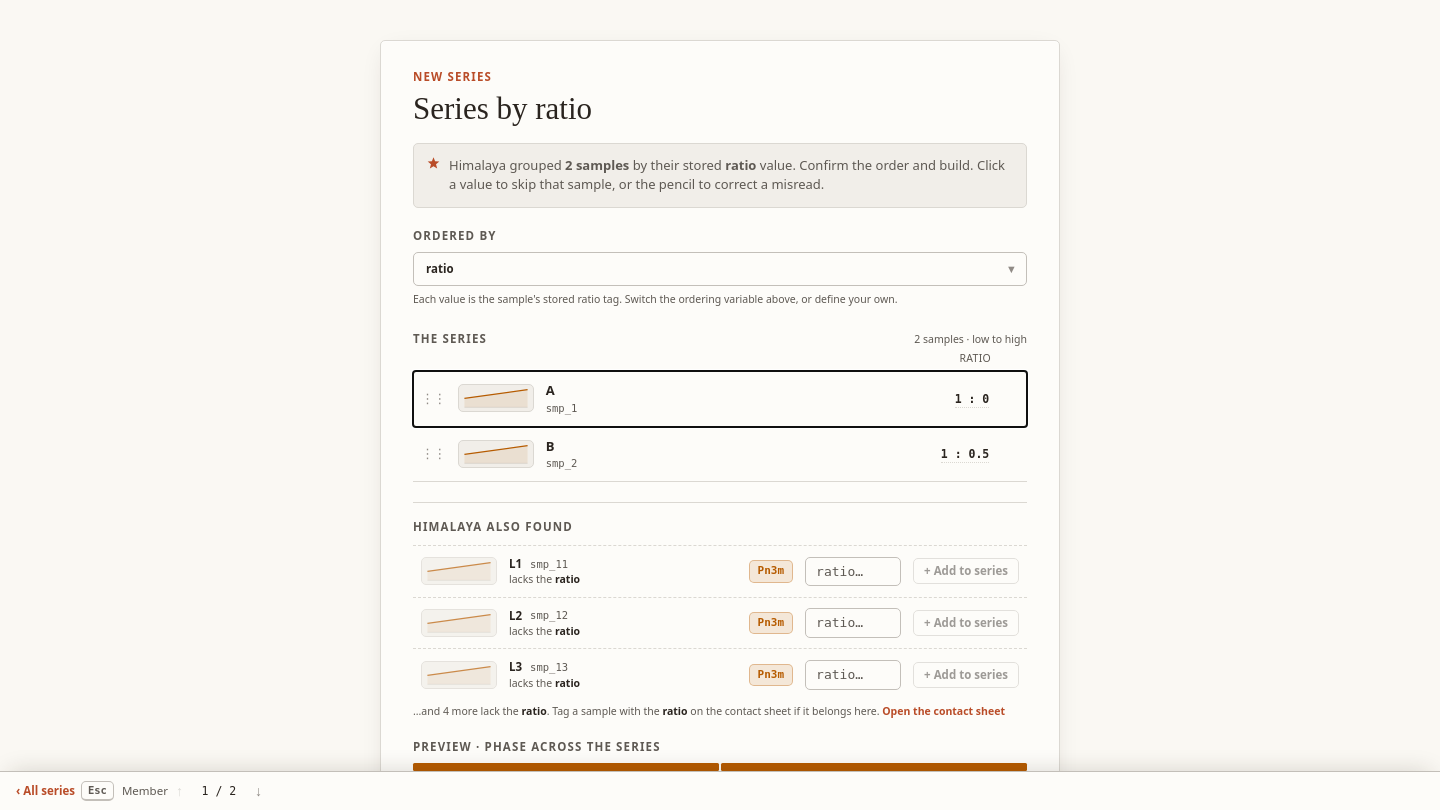
SeriesScopingPage › loose candidates are actionable (SCOPE-LOOSEADD) › naming a value enables Add; adding moves the candidate into the members
Expected: the number of elements with test id "scope-sample-row" is 2, [413,371,1027,427]; [413,427,1027,482]
Expected: the button "+ Add to series" in the row of "11" is disabled, [913,558,1019,584]
Type "2 : 1" into the field named "value for L1".
click(853, 571); type("2 : 1")  # box [816,562,890,581]
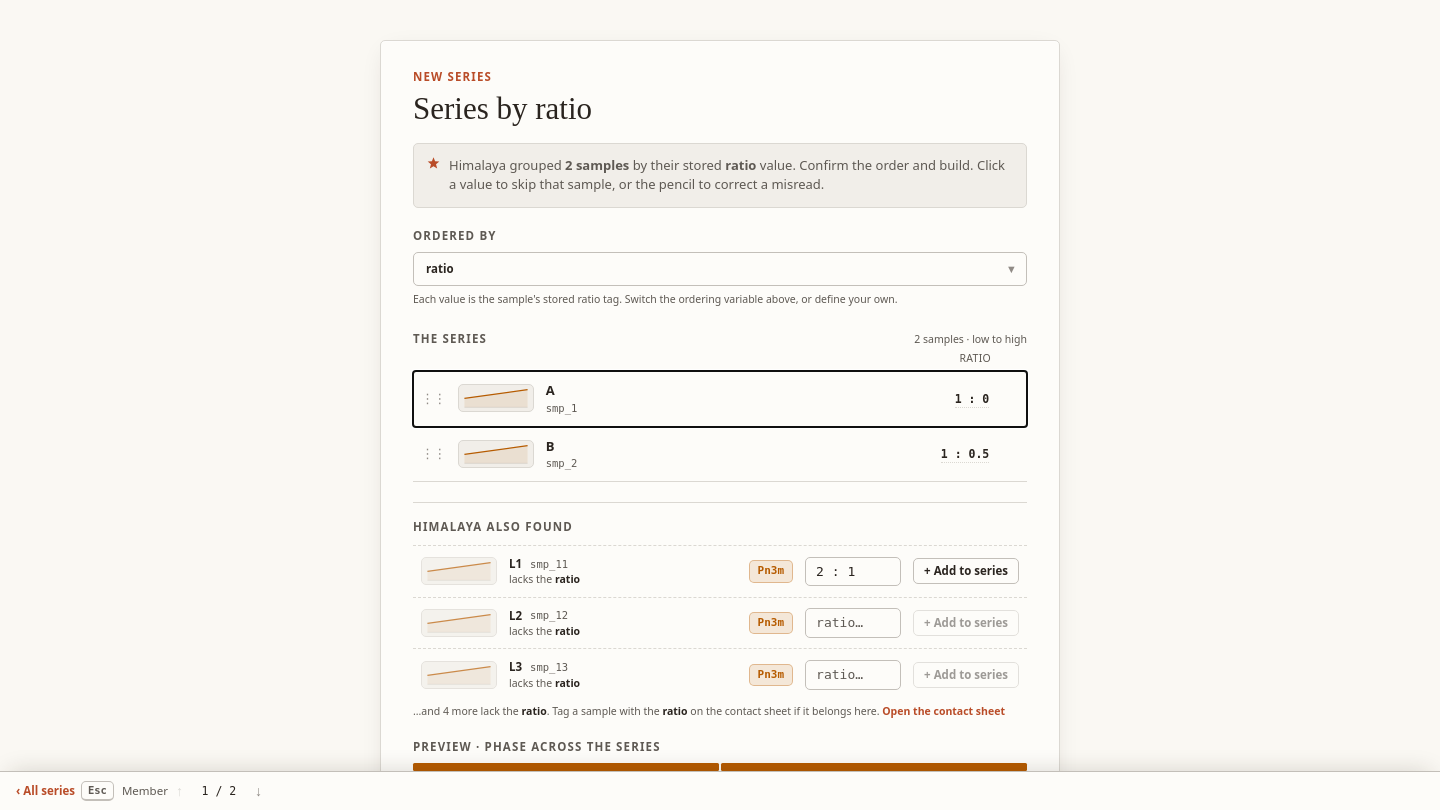
Now the button "+ Add to series" in the row of "11" is enabled
Click the button "+ Add to series" in the row of "11".
click(966, 571)  # box [913,558,1019,584]
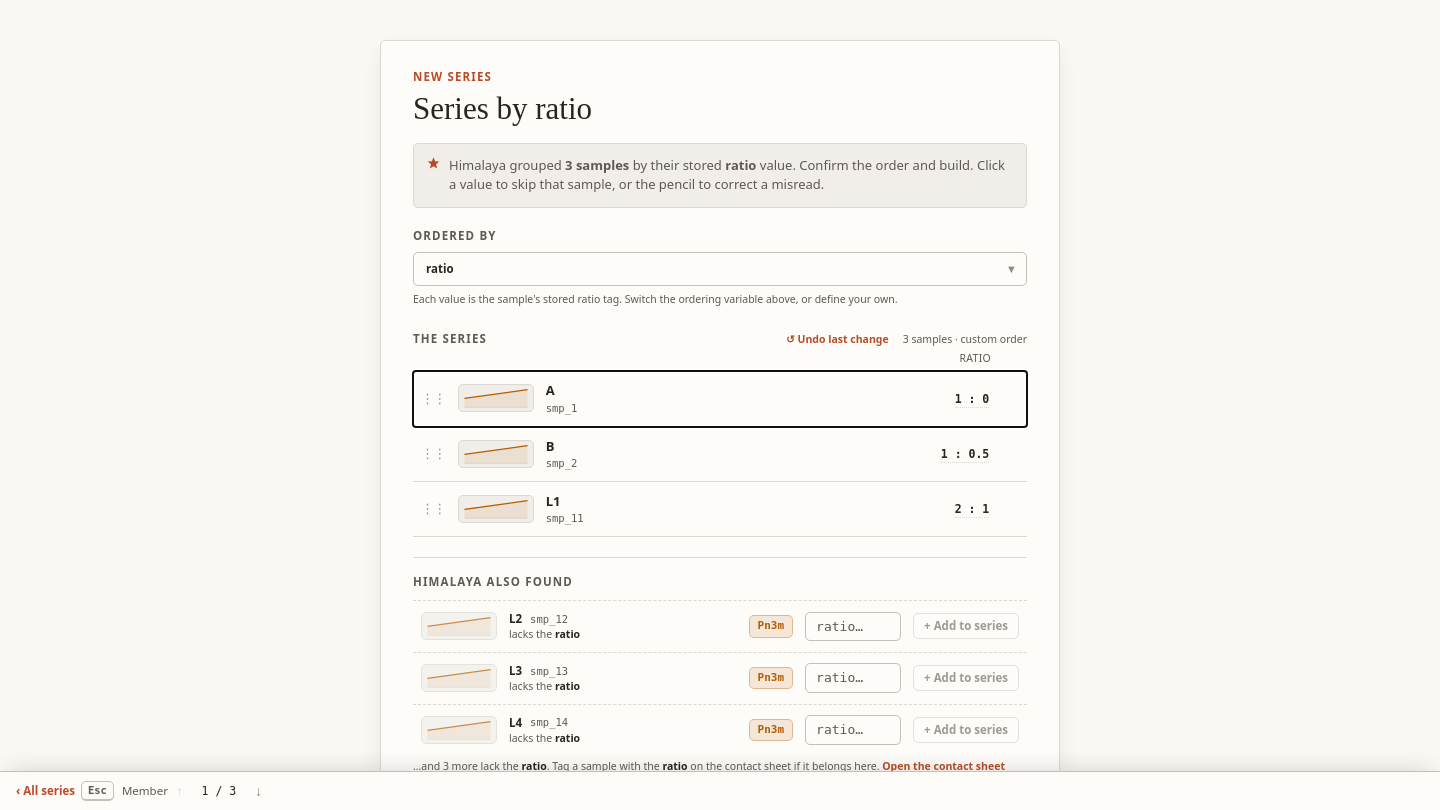
Now the number of elements with test id "scope-sample-row" is 3, box [413,371,1027,427]; [413,427,1027,482]; [413,482,1027,537]
